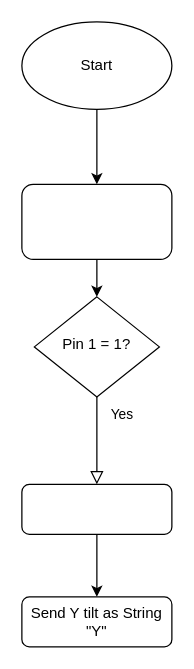
This 194x669 diagram has some shape labels left out. Each missing label, with the centre of its shape:
Send X tilt as string "X": pixel 96 508
Set Radio Group 2: pixel 96 221
